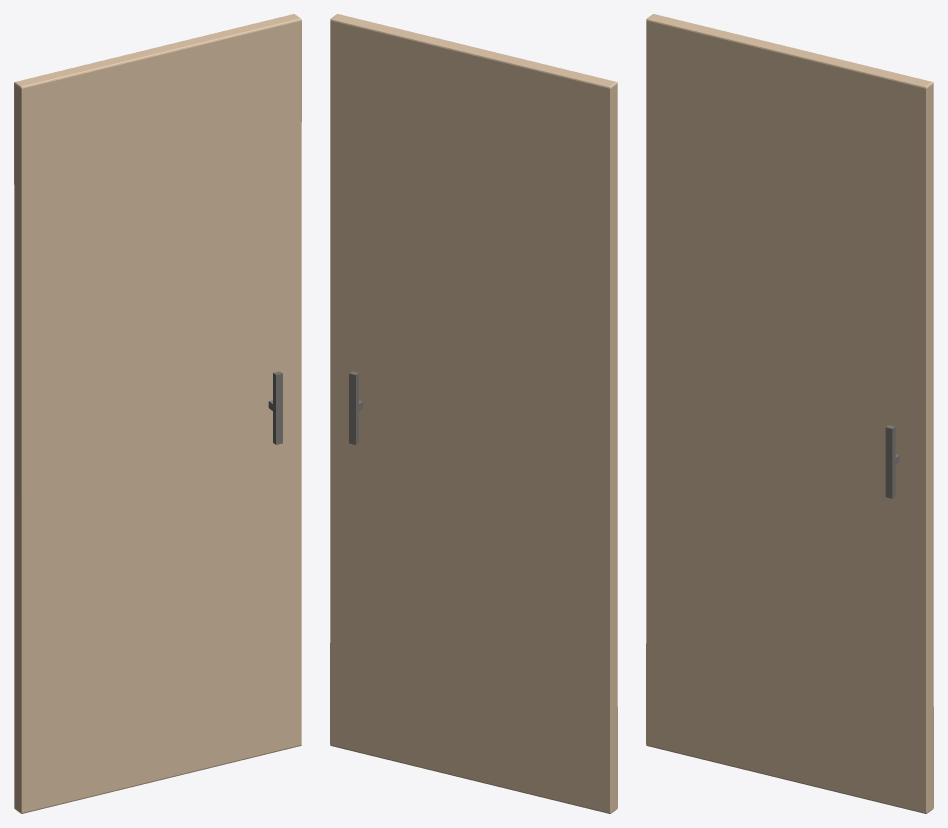
File: door_leaf_interior.glb
The picture shows the model from 3 angles, left to right: view 1: azimuth 30°, elevation 25°; view 2: azimuth 150°, elevation 25°; view 3: azimuth 330°, elevation 25°; orthographic projection.
Visible parts, largest first — view 1: door_leaf_interior_door_int, door_leaf_interior_metal; view 2: door_leaf_interior_door_int, door_leaf_interior_metal; view 3: door_leaf_interior_door_int, door_leaf_interior_metal.
Part boxes in pixels (x1,y1,x2,y2): door_leaf_interior_door_int: [14, 14, 301, 813]; door_leaf_interior_metal: [268, 371, 282, 444]; door_leaf_interior_door_int: [330, 14, 617, 813]; door_leaf_interior_metal: [349, 371, 363, 444]; door_leaf_interior_door_int: [646, 14, 933, 813]; door_leaf_interior_metal: [885, 425, 899, 498].
Bounding box in the file's own units: 0.84 × 2.08 × 0.116.
